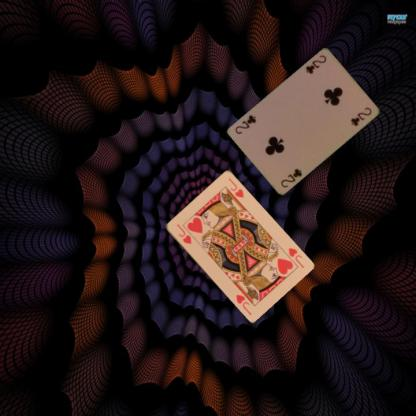2c: (302, 52, 327, 75), (278, 166, 303, 188)
Jh: (285, 245, 305, 269), (174, 221, 192, 246)
